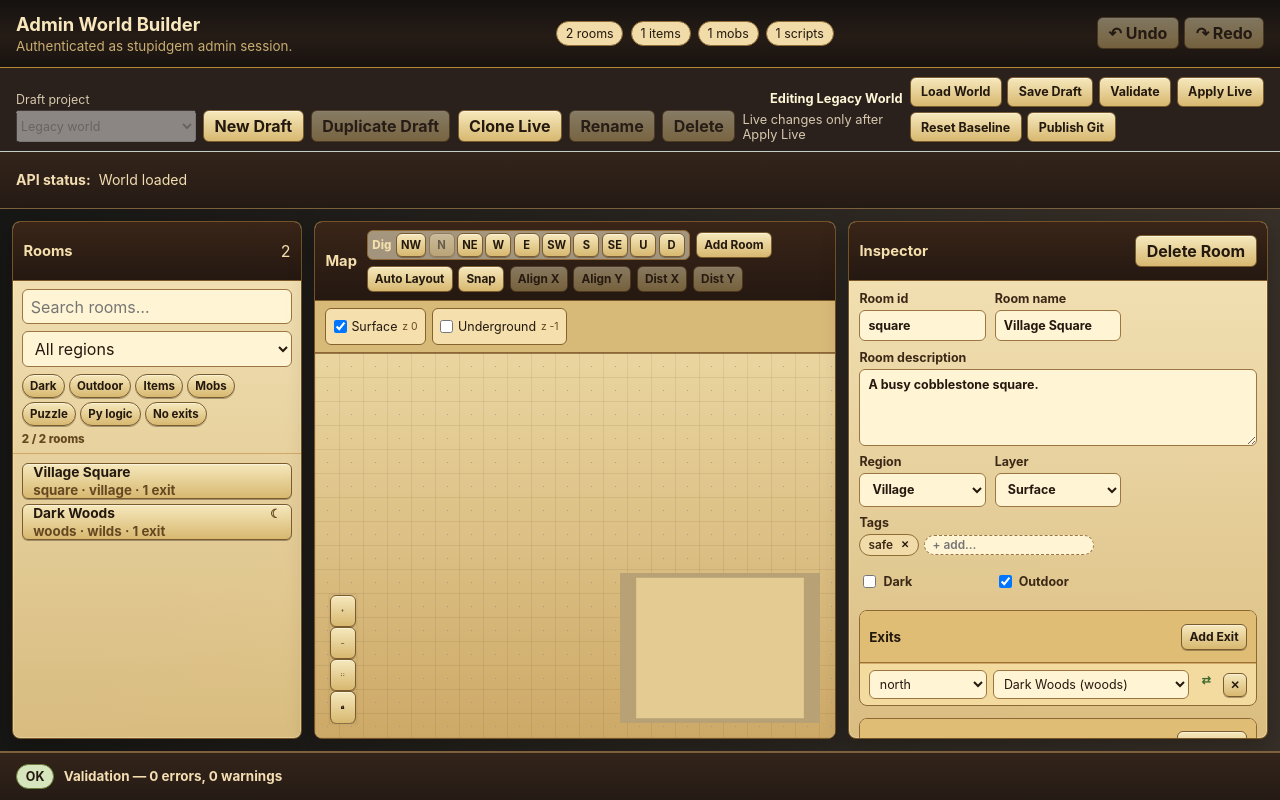
Test case: selecting a room in the browser updates the inspector
This screenshot has width=1280, height=800.
Check: the search field labelled "Search rooms" is shown, box [22,289,292,324]
Click the button "Dark Woods ☾ woods · wilds · 1 exit".
click(157, 522)  # box [22,504,292,540]
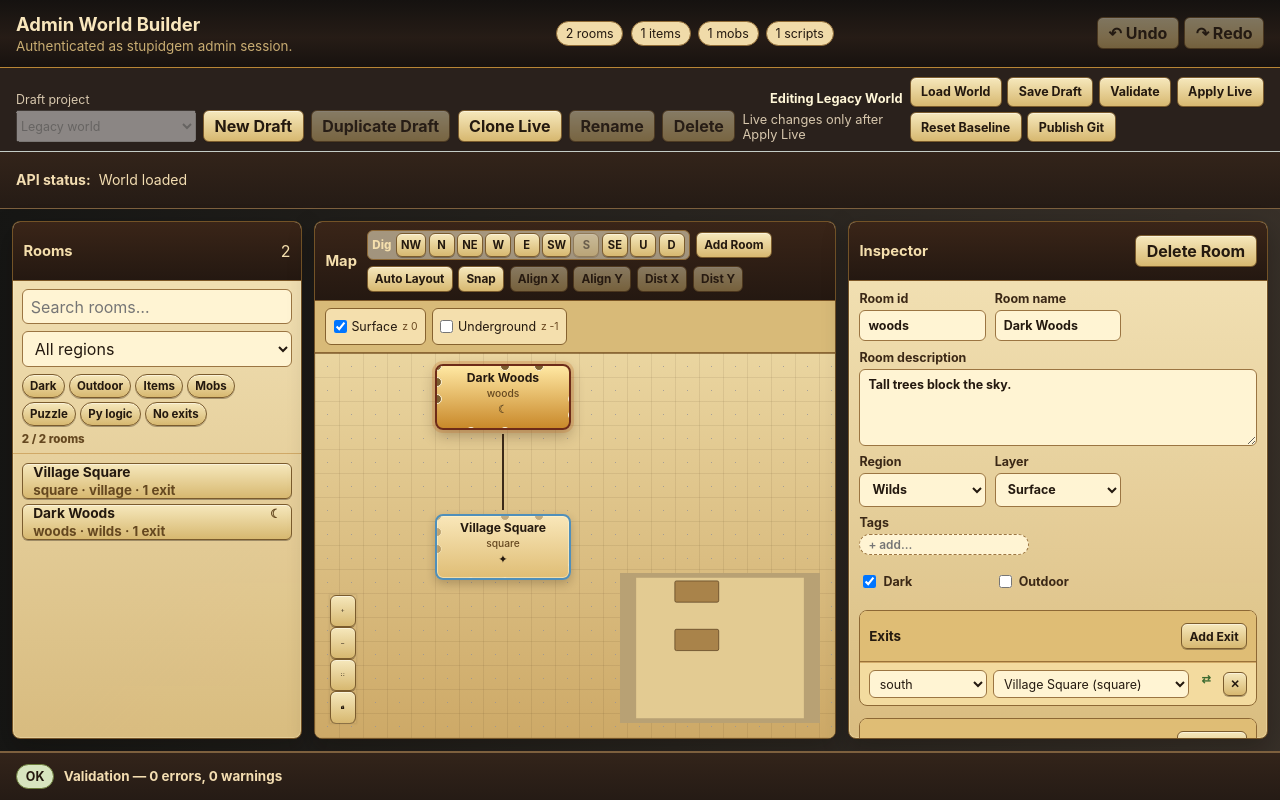
Check: the field labelled "Room id" holds "woods", box [859,310,986,341]
